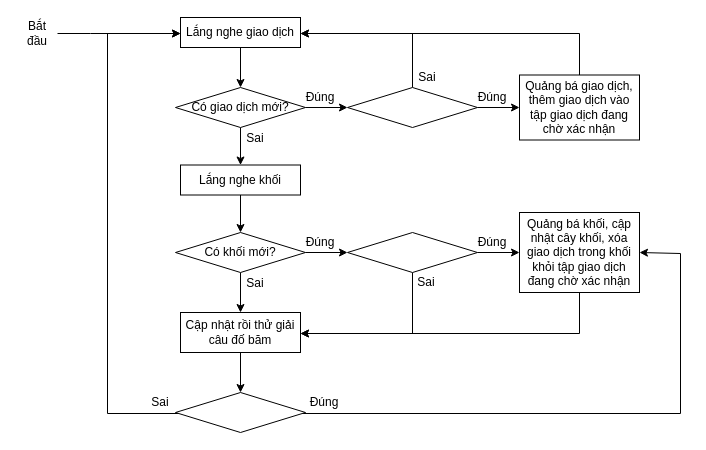
This 706x450 diagram has some shape labels left out. Each missing label, with the centre of its shape:
Giao dịch hợp lệ?: point 412,107
Giải thành công?: point 240,412
Khối hợp lệ?: point 412,252
